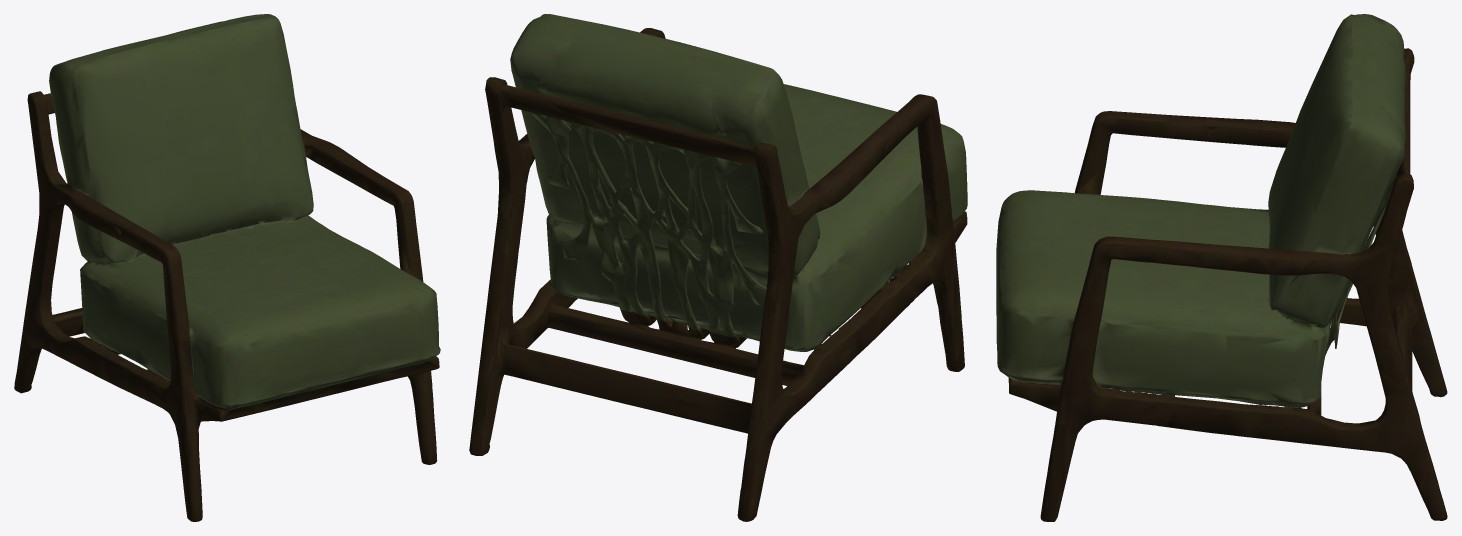
File: IH3i6nX3tRyRWhosfI_4v.glb
3 views of the same model, side by side, from view 1: azimuth 30°, elevation 25°; view 2: azimuth 150°, elevation 25°; view 3: azimuth 270°, elevation 25° (orthographic). The views are drawn at different scales.
Visible parts, largest first — view 1: geometry_0; view 2: geometry_0; view 3: geometry_0.
Boxes of the visible parts, x1=… form: geometry_0: x1=14, y1=14, x2=440, y2=521; geometry_0: x1=469, y1=14, x2=967, y2=521; geometry_0: x1=996, y1=14, x2=1447, y2=521.
Size of the model in its own units: 0.7259 by 0.9627 by 1.
1 material, 1 textured.
